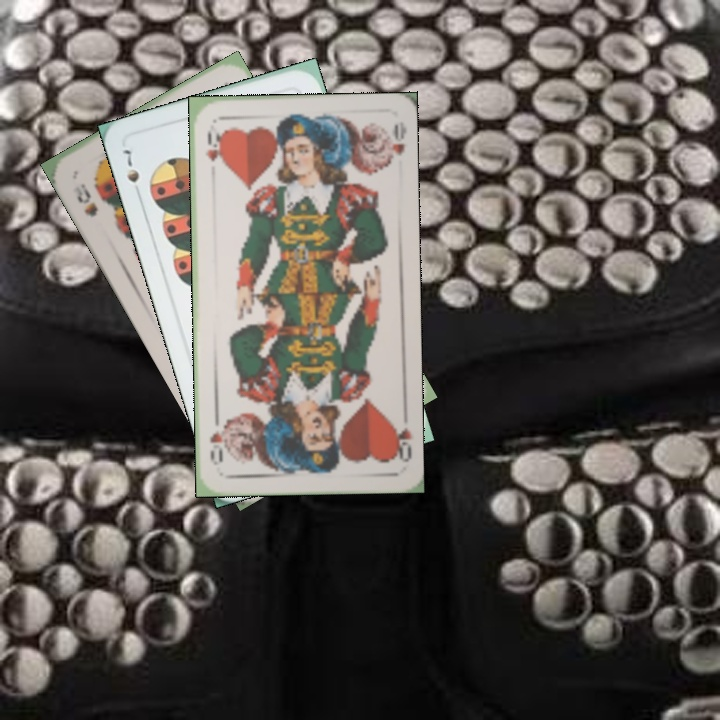HO: (387, 416, 414, 465), (201, 126, 224, 164)
S7: (119, 145, 144, 201)
S8: (69, 179, 101, 220)
